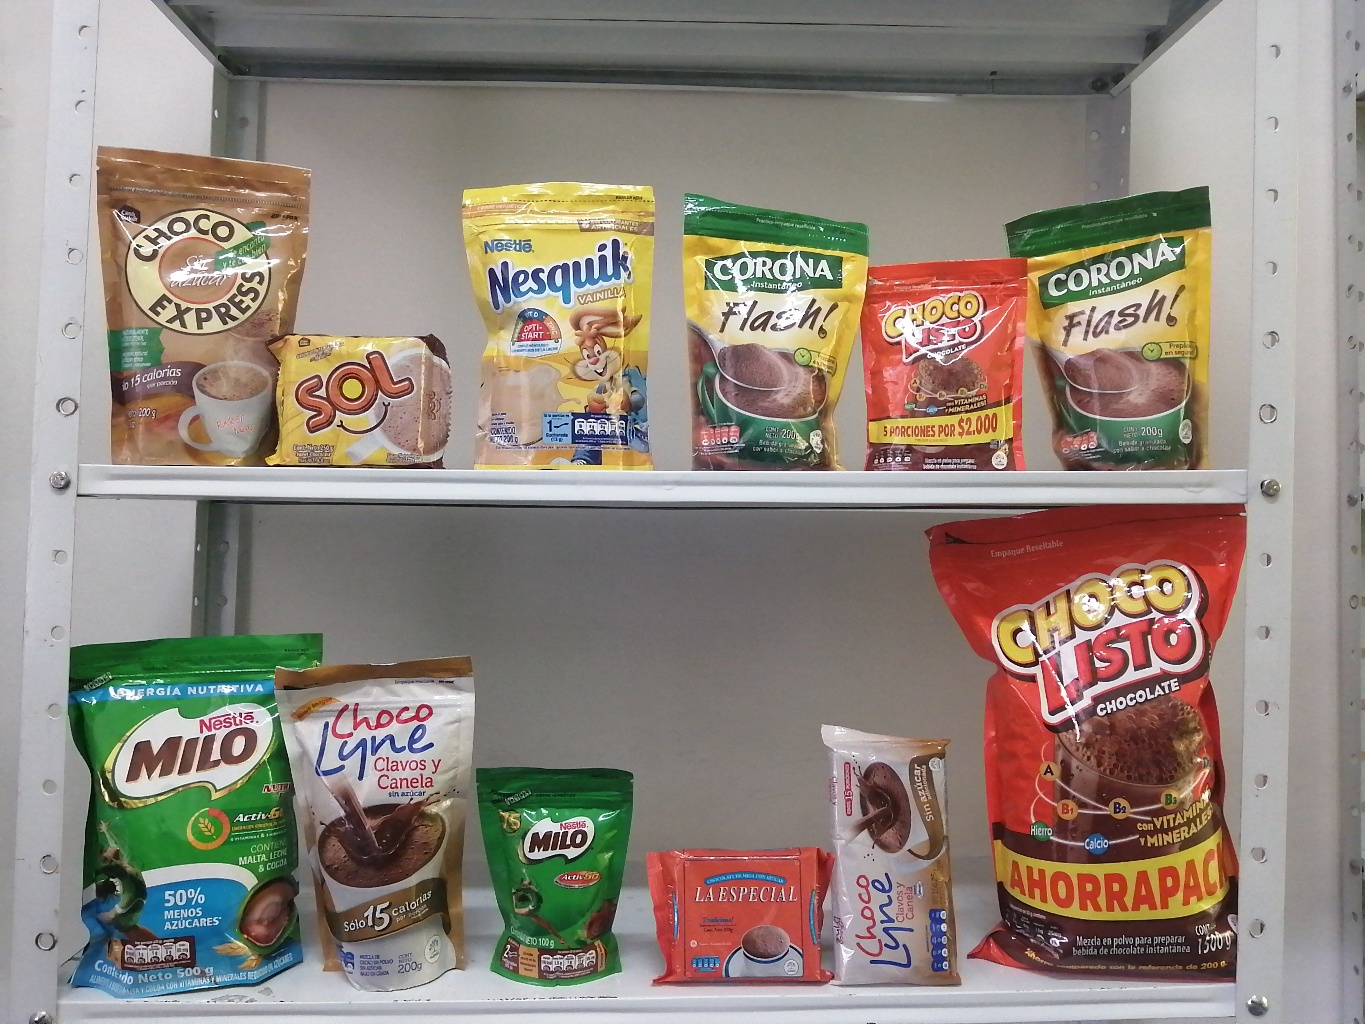COL0170103DYP1,500: (916, 499, 1279, 999)
COL0170203DYP10000: (451, 740, 656, 995)
COL0170205DYP50000: (63, 625, 329, 1012)
COL0170306DYP20000: (438, 166, 671, 486)
